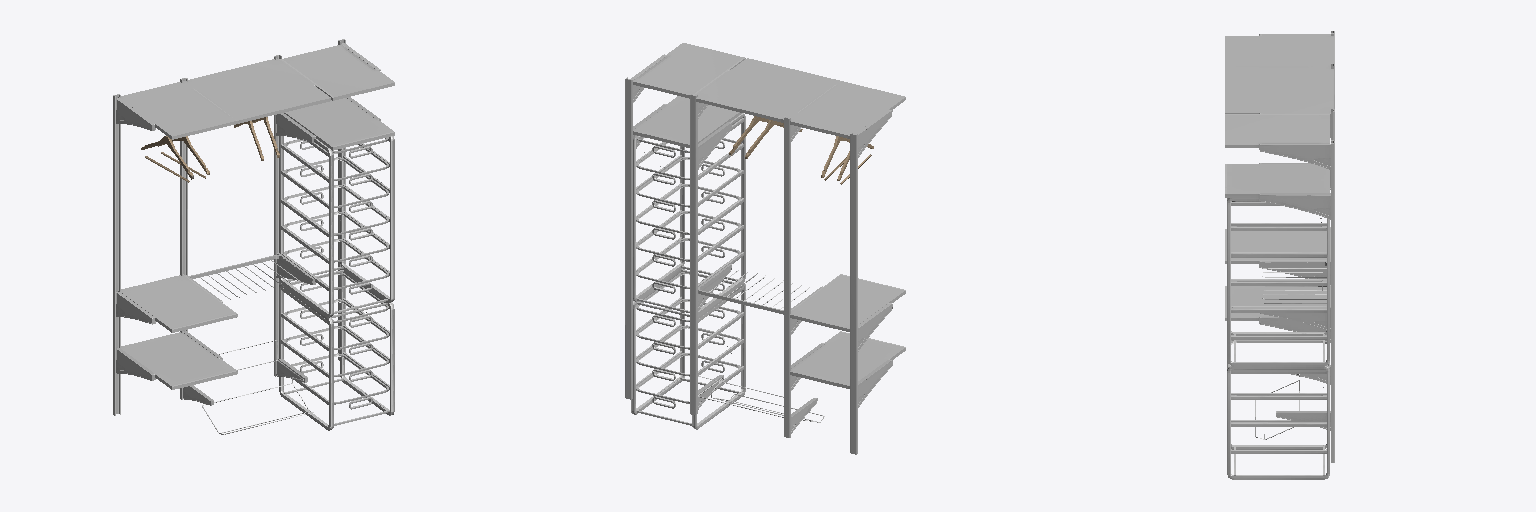
3 renders of one model, left to right at view 1: azimuth 30°, elevation 25°; view 2: azimuth 150°, elevation 25°; view 3: azimuth 270°, elevation 25°, orthographic.
Parts seen in each view (by area): view 1: solid_004, solid_001; view 2: solid_004, solid_001; view 3: solid_004.
Part boxes in pixels (x1,y1,x2,y2): solid_004: (113, 39, 394, 434); solid_001: (141, 117, 279, 182); solid_004: (625, 43, 905, 454); solid_001: (729, 116, 873, 184); solid_004: (1225, 31, 1334, 479).
Size of the model in its own units: 0.9132 by 1.27 by 0.373.
1 materials, 1 textured.